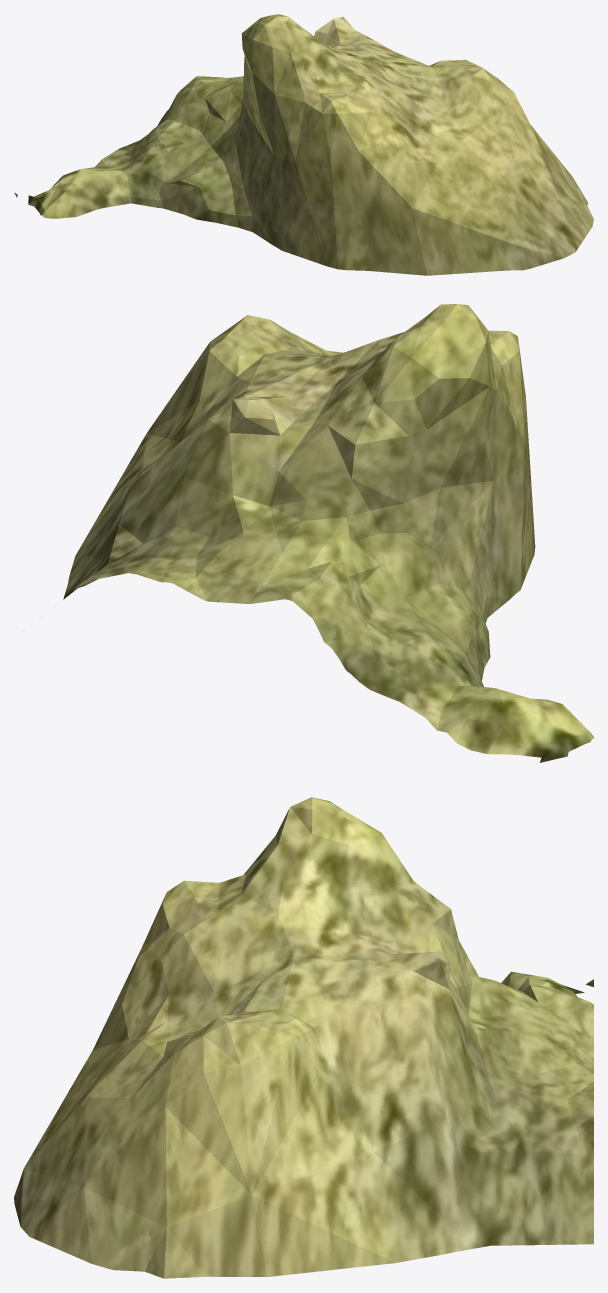
3 views of the same model, one above another, from view 1: azimuth 30°, elevation 25°; view 2: azimuth 150°, elevation 25°; view 3: azimuth 270°, elevation 25° (orthographic). The views are drawn at different scales.
Size of the model in its own units: 2.91 by 1.39 by 2.43.
2 materials, 2 textured.
